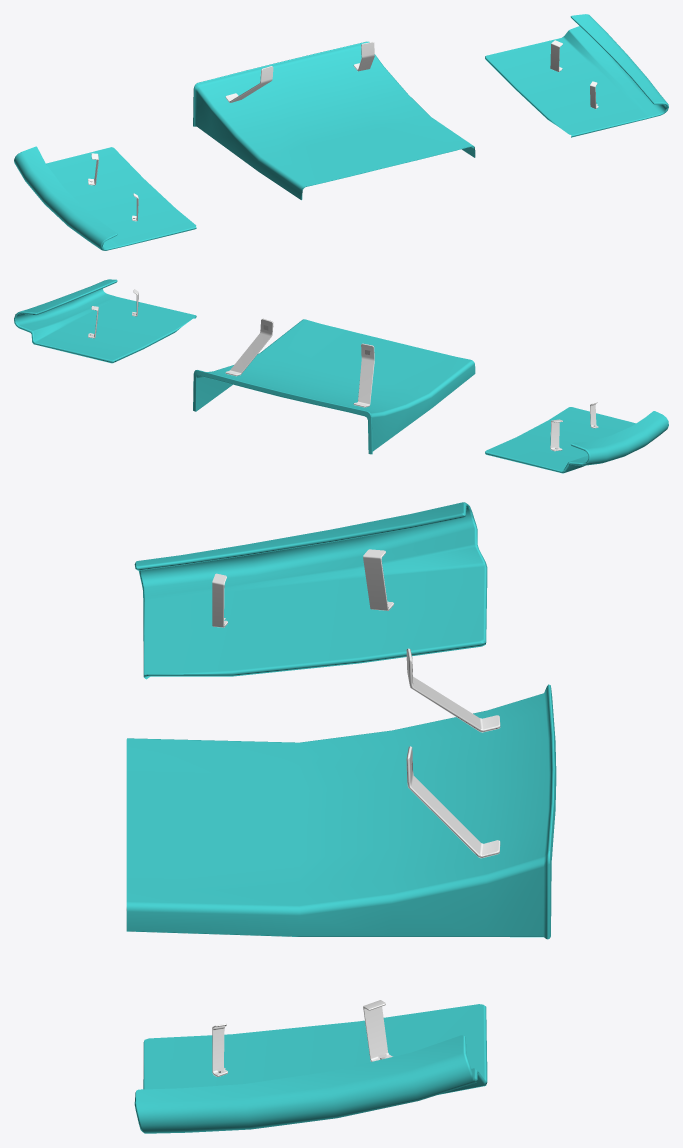
Rendered from Car_Nissan_SkylineGTRVspecR34_1999_Diffuser_SetEF.fbx.
3 views of the same model, one above another, from view 1: azimuth 30°, elevation 25°; view 2: azimuth 150°, elevation 25°; view 3: azimuth 270°, elevation 25° (orthographic). The views are drawn at different scales.
Visible parts, largest first — view 1: Diffuser 6; view 2: Diffuser 6; view 3: Diffuser 6.
Part boxes in pixels (box(x1,y1,x2,y2)): Diffuser 6: box(14, 14, 668, 250); Diffuser 6: box(14, 279, 668, 473); Diffuser 6: box(126, 502, 556, 1133).
Bounding box in the file's own units: 1.81 × 0.237 × 0.5753.
